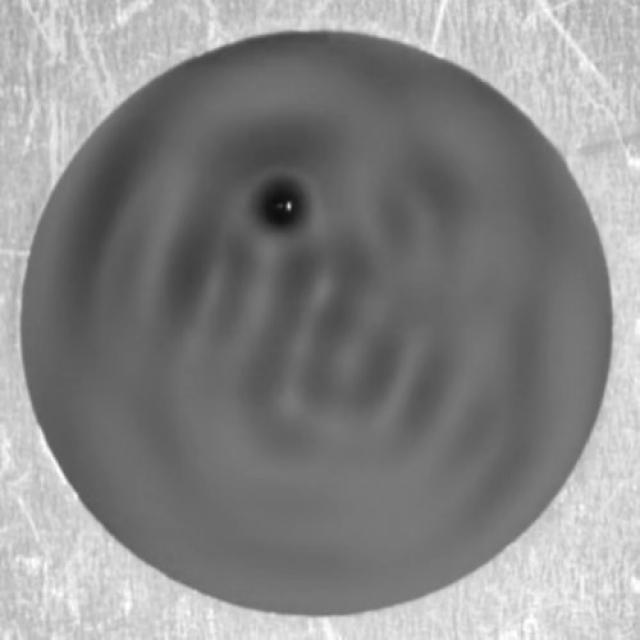droplet: (270, 193, 296, 224)
